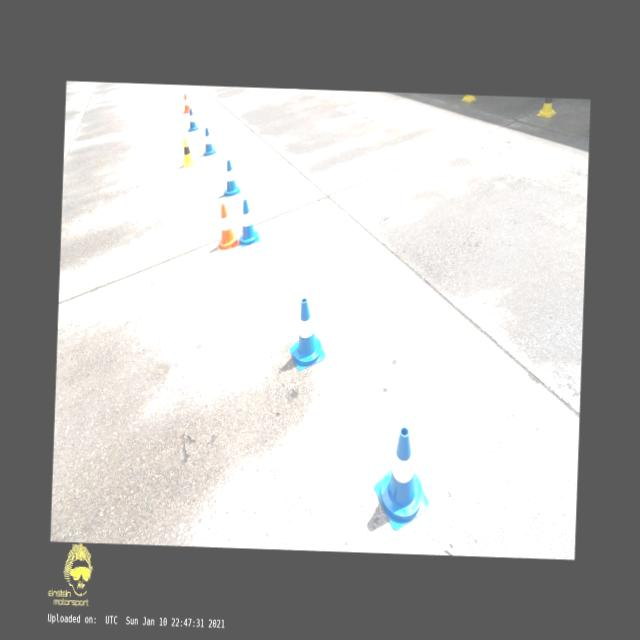blue_cone: (372, 424, 432, 531), (288, 296, 326, 371), (238, 198, 262, 248), (223, 158, 241, 198), (203, 126, 216, 156), (188, 108, 198, 131)
orange_cone: (216, 202, 239, 250), (182, 92, 190, 113)
yellow_cone: (535, 96, 556, 118), (182, 138, 197, 168)
